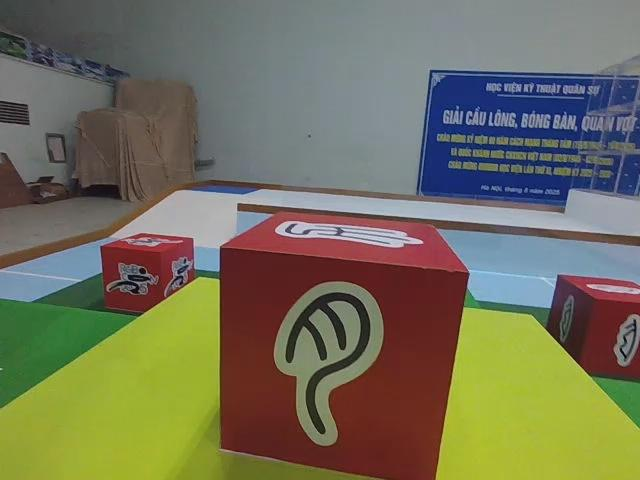R1: (96, 228, 193, 316)
R2 Fake: (217, 207, 470, 480)
R2 Real: (545, 272, 640, 386)
